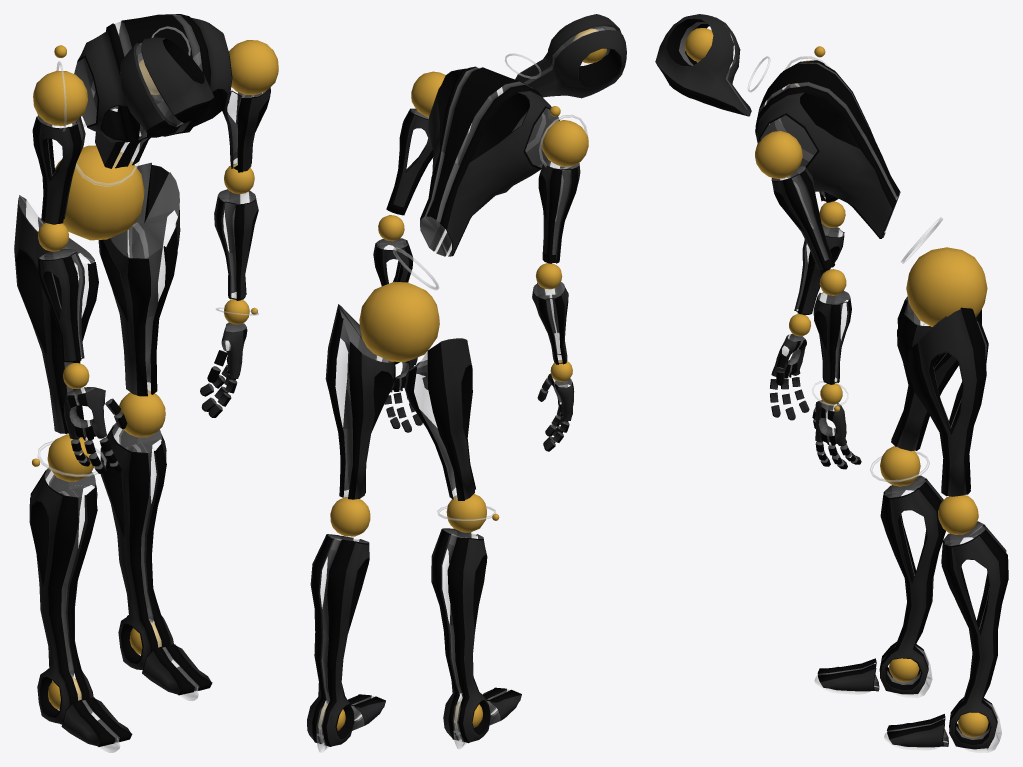
File: Statue 5.fbx
3 views of the same model, side by side, from view 1: azimuth 30°, elevation 25°; view 2: azimuth 150°, elevation 25°; view 3: azimuth 270°, elevation 25° (orthographic). The views are drawn at different scales.
Visible parts, largest first — view 1: Torso V2.005; view 2: Torso V2.005; view 3: Torso V2.005.
Boxes of the visible parts, <box> form: Torso V2.005: <box>14,14,278,752</box>; Torso V2.005: <box>307,14,626,752</box>; Torso V2.005: <box>655,14,1008,752</box>.
Bounding box in the file's own units: 0.4727 × 1.5 × 0.7135.
